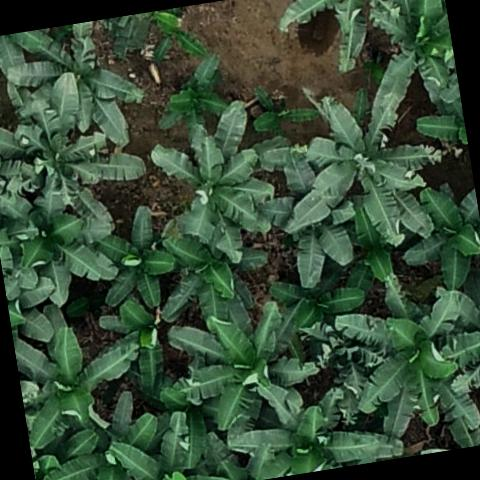Banana-plant: (270, 77, 452, 264), (0, 60, 157, 257), (326, 260, 480, 451), (158, 290, 331, 454), (140, 93, 292, 273), (0, 159, 133, 339), (9, 298, 158, 455), (1, 14, 152, 159), (144, 196, 276, 329), (68, 282, 202, 409), (349, 0, 465, 143), (218, 381, 385, 480), (26, 387, 173, 480), (76, 200, 186, 322), (265, 0, 415, 80), (388, 177, 480, 303), (150, 51, 237, 150), (244, 75, 326, 153), (140, 3, 214, 71)
